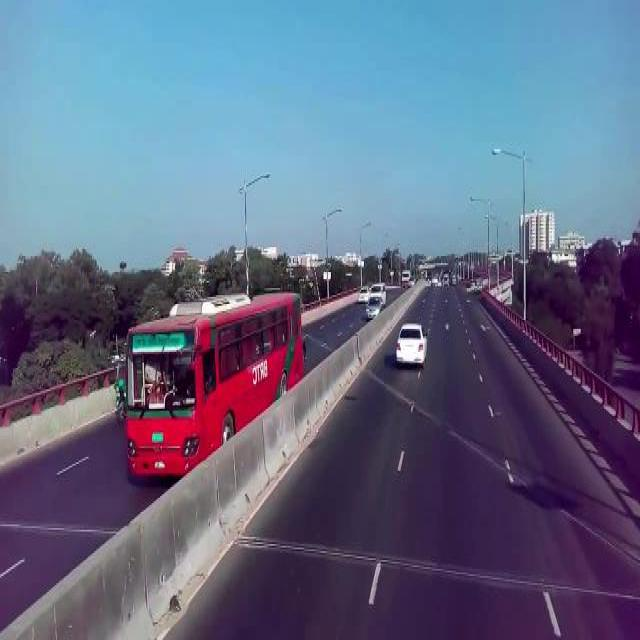Bus: (124, 301, 216, 485)
Car: (388, 314, 430, 369), (363, 305, 380, 321), (372, 285, 386, 303), (359, 290, 370, 309)
